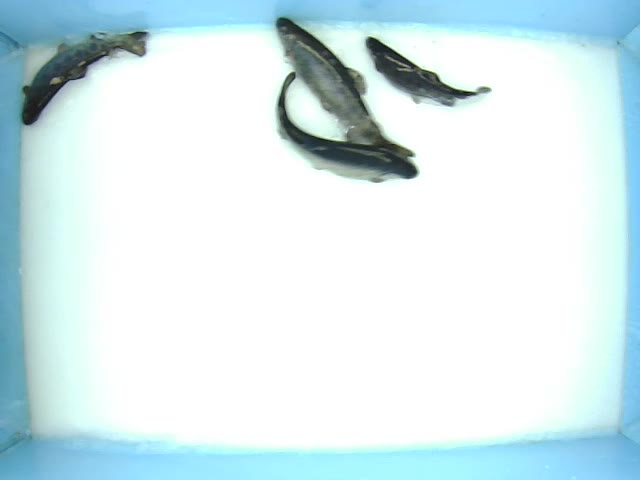fish: (272, 14, 414, 160), (274, 69, 422, 183), (18, 26, 148, 128), (363, 31, 493, 110)
